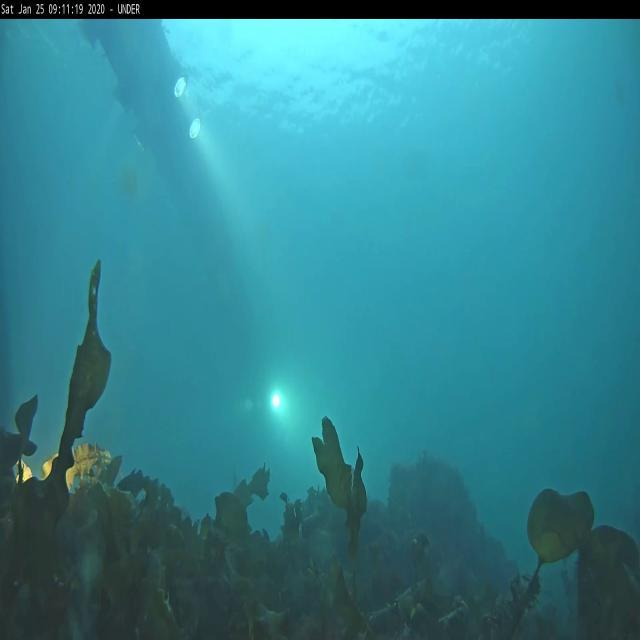fish: (116, 470, 150, 498)
